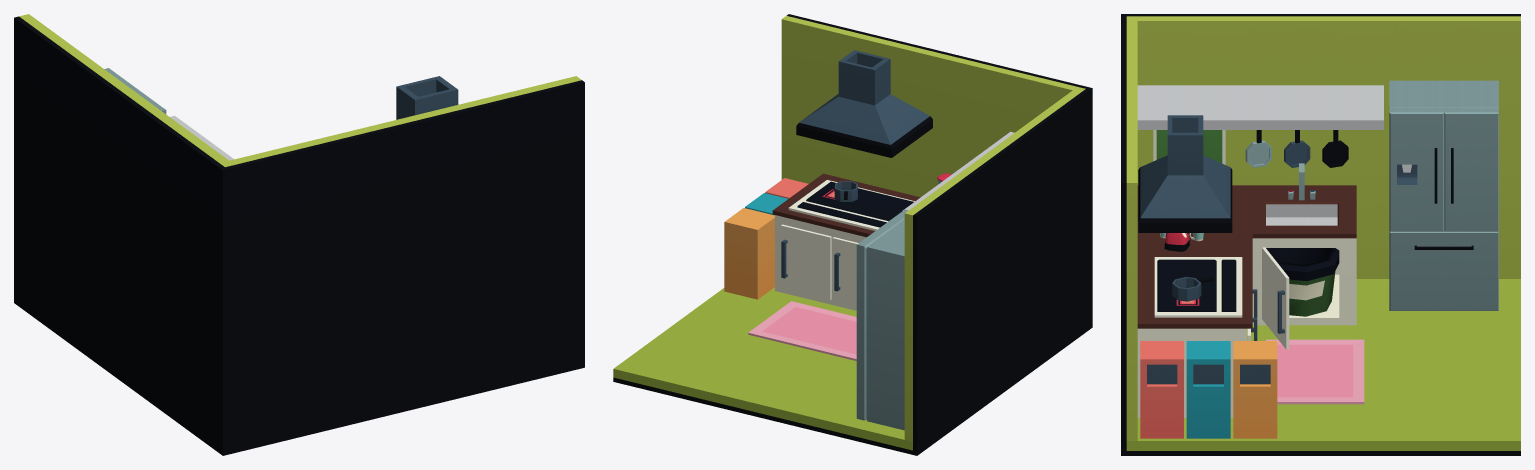
The model's file is Room4_Kitchen.glb.
The picture shows the model from 3 angles, left to right: view 1: azimuth 30°, elevation 25°; view 2: azimuth 150°, elevation 25°; view 3: azimuth 270°, elevation 25°; orthographic projection. The views are drawn at different scales.
Visible parts, largest first — view 1: Walls, Thing_above_the_stove_i_dont_really_know_wat_its_called_Colo; view 2: Walls, Fridge, Thing_above_the_stove_i_dont_really_know_wat_its_called_Colo, Plastic, Carpet, Counter, Door1, Stove_Top2, Door2, Stove_Top, Stove_Top1, Top_Shelf (+2 smaller); view 3: Walls, Fridge, Counter, Top_Shelf, Thing_above_the_stove_i_dont_really_know_wat_its_called_Colo, Carpet, Plastic, Paper, Metal, Trash, Stove_Top2, Door4 (+8 smaller).
Part boxes in pixels (x1,y1,x2,y2): Walls: (14, 14, 584, 455); Thing_above_the_stove_i_dont_really_know_wat_its_called_Colo: (396, 76, 458, 119); Walls: (613, 14, 1092, 455); Fridge: (856, 209, 908, 430); Thing_above_the_stove_i_dont_really_know_wat_its_called_Colo: (796, 50, 932, 157); Plastic: (724, 208, 774, 299); Carpet: (748, 301, 856, 360); Counter: (772, 173, 920, 310); Door1: (781, 224, 831, 300); Stove_Top2: (806, 181, 913, 221); Door2: (832, 237, 858, 306); Stove_Top: (788, 180, 914, 230); Stove_Top1: (797, 202, 886, 227); Top_Shelf: (902, 131, 1014, 210); Walls: (1121, 14, 1520, 455); Fridge: (1389, 80, 1498, 310); Counter: (1137, 185, 1356, 417); Top_Shelf: (1137, 85, 1383, 129); Thing_above_the_stove_i_dont_really_know_wat_its_called_Colo: (1138, 115, 1232, 232); Carpet: (1266, 339, 1364, 404); Plastic: (1233, 341, 1277, 438); Paper: (1186, 341, 1230, 438); Metal: (1140, 341, 1183, 438); Trash: (1266, 248, 1339, 316); Stove_Top2: (1157, 259, 1216, 311); Door4: (1262, 247, 1289, 349).
Size of the model in its own units: 365 by 275 by 365.
1 material, 1 textured.
